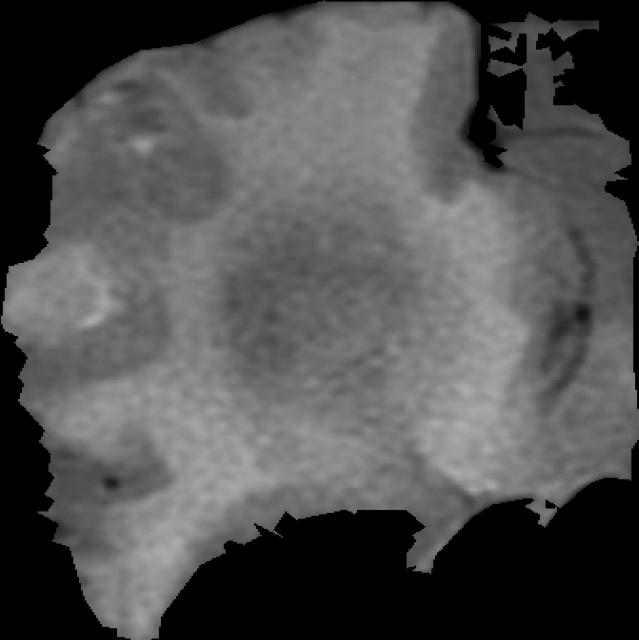tumor_less_chance: (1, 0, 639, 640)
